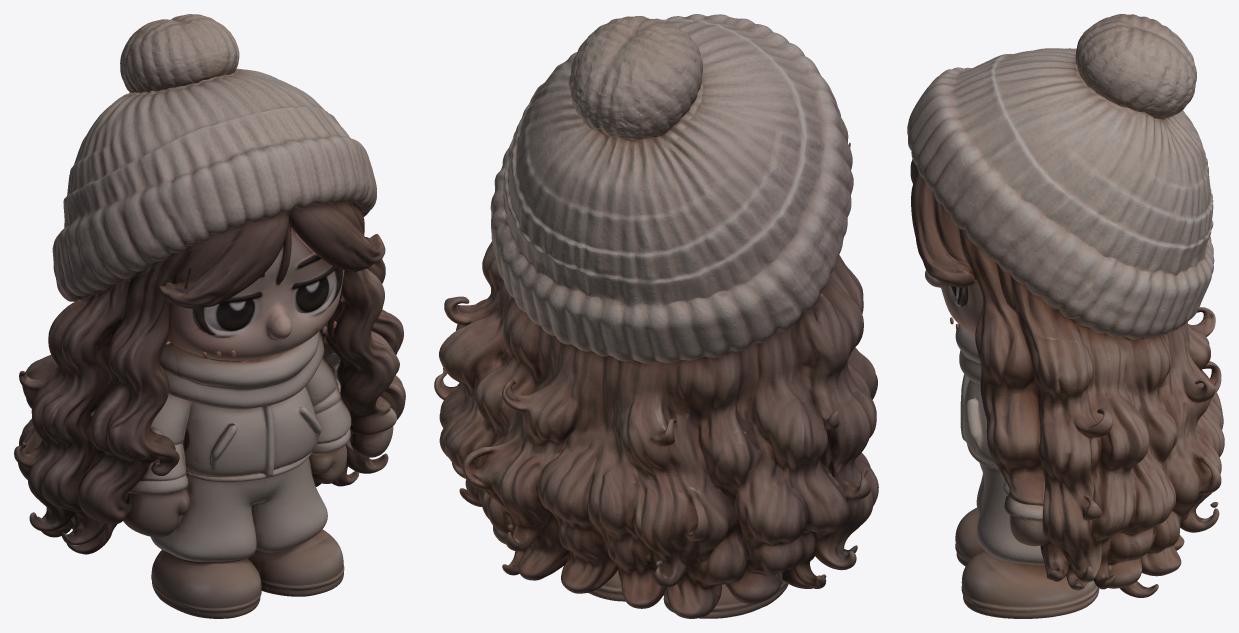
The model's file is aurora_character.glb.
3 renders of one model, left to right at view 1: azimuth 30°, elevation 25°; view 2: azimuth 150°, elevation 25°; view 3: azimuth 270°, elevation 25°, orthographic. The views are drawn at different scales.
Parts seen in each view (by area): view 1: world; view 2: world; view 3: world.
Part boxes in pixels (x1,y1,x2,y2): world: (14,14,405,618); world: (434,14,878,618); world: (907,14,1224,618).
Bounding box in the file's own units: 0.757 × 0.9999 × 0.5248.
1 material, 1 textured.
